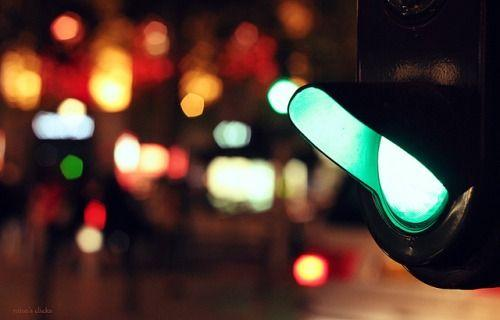Traffic light green: (270, 0, 500, 294)
